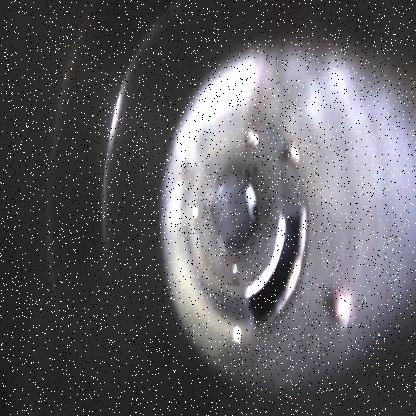Crack2: (245, 208, 309, 334)
